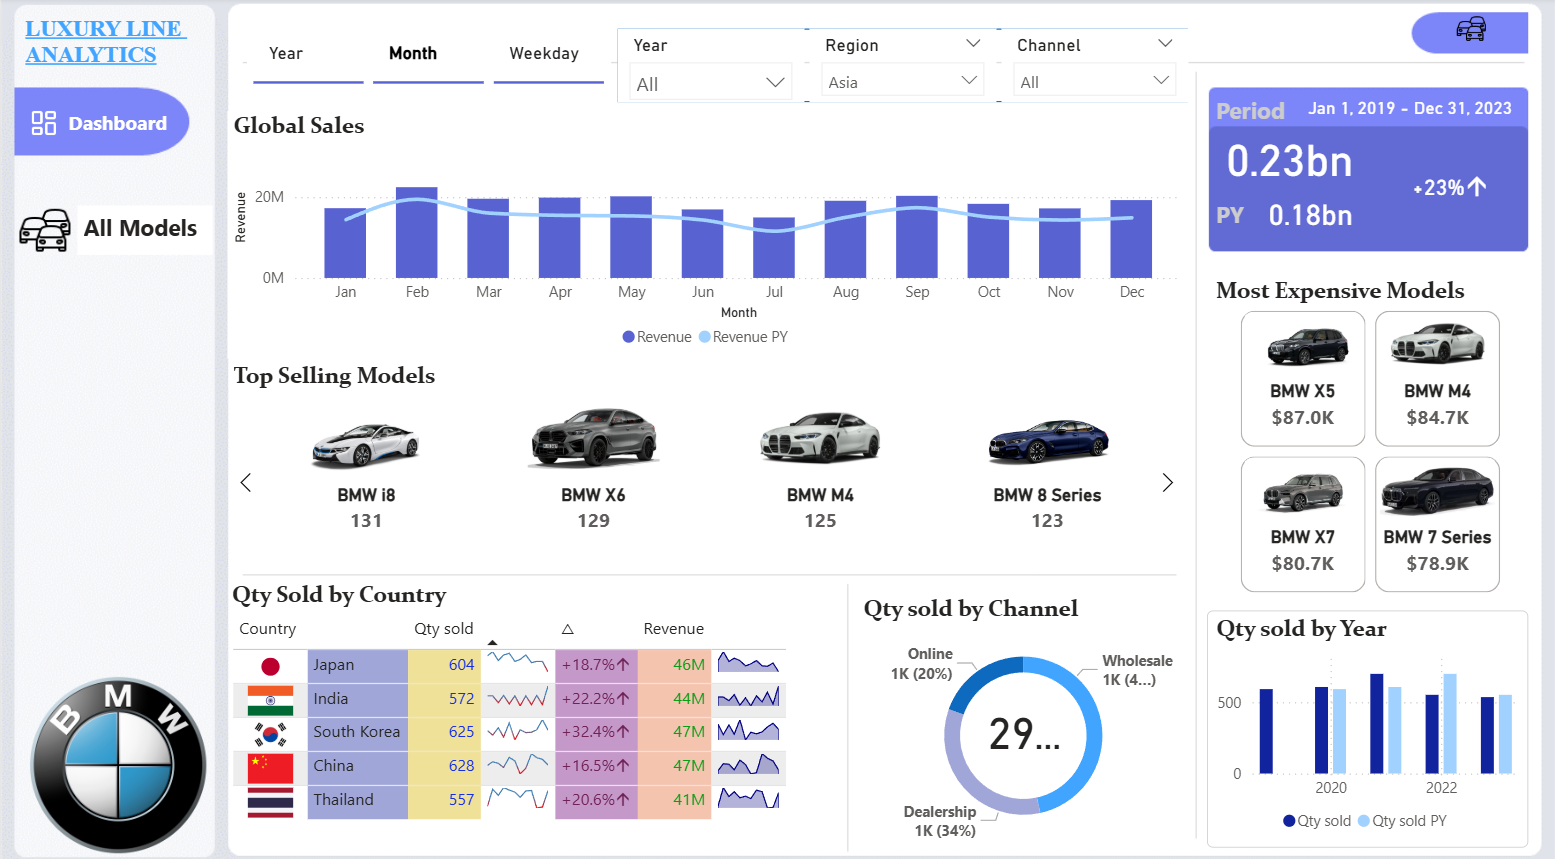

What the dashboard file says about the page in this screenshot:
{"tool":"powerbi","page":{"name":"Dashboard","canvas":[1280,720],"ordinal":0},"visuals":[{"type":"lineStackedColumnComboChart","title":"Global Sales","fields":{"Category":["Calendar.Month"],"Y":["All Measures.Revenue"],"Y2":["All Measures.Revenue PY"]},"box":[187,93.5,791,204.2],"z":0},{"type":"advancedSlicerVisual","fields":{"Values":["PeriodSlicer.PeriodSlicer"]},"box":[202.5,16.2,299.7,60.8],"z":1000},{"type":"card","fields":{"Values":["All Measures.Revenue"]},"box":[995.5,107.1,130.7,47.3],"z":2000},{"type":"card","fields":{"Values":["All Measures.Revenue PY"]},"box":[1012.8,154.4,130.7,47.3],"z":3000},{"type":"textbox","box":[995.5,160.7,45.7,41],"z":4000},{"type":"card","fields":{"Values":["All Measures.Revenue Variance % Arrow"]},"box":[1143.5,133.9,96.1,47.3],"z":5000},{"type":"card","fields":{"Values":["All Measures.Selected Period"]},"box":[1061.6,77.2,198.5,31.5],"z":6000},{"type":"textbox","box":[995.5,75.6,83.5,41],"z":7000},{"type":"advancedSlicerVisual","title":"Top Selling Models","fields":{"Values":["dimModel.Model"]},"box":[187,300.6,791,175.4],"z":8000},{"type":"advancedSlicerVisual","title":"Most Expensive Models","fields":{"Values":["dimModel.Model"]},"box":[995.5,230,264.6,266.2],"z":9000},{"type":"clusteredColumnChart","title":"Qty sold  by Year","fields":{"Y":["All Measures.Qty sold","All Measures.Qty sold PY"],"Category":["Calendar.Year"]},"box":[993.9,505.6,264.6,195.3],"z":10000},{"type":"donutChart","fields":{"Y":["All Measures.Qty sold"],"Category":["dimChannel.Channel"]},"box":[705.6,491.4,272.5,209.5],"z":11000},{"type":"card","fields":{"Values":["All Measures.Qty sold"]},"box":[800.1,574.9,83.5,56.7],"z":12000},{"type":"tableEx","title":"Qty Sold by Country","fields":{"Values":["dimCountry.Flag","dimCountry.Country","All Measures.Qty sold","All Measures.Qty Sold Sparkline","All Measures.Qty sold Variance % Arrow","All Measures.Revenue","All Measures.Revenue Sparkline"]},"box":[185.9,480.4,519.8,220.5],"z":13000},{"type":"textbox","box":[50.6,87.1,117.5,38.5],"z":14000},{"type":"image","box":[0,87.1,70.9,34.4],"z":15000},{"type":"image","box":[10.1,153.9,52.7,74.9],"z":16000},{"type":"textbox","box":[62.8,172.2,111.4,40.5],"z":17000},{"type":"actionButton","box":[14.2,160,153.9,64.8],"z":18000},{"type":"image","box":[18.2,546.8,155.9,170.1],"z":19000},{"type":"textbox","box":[14.4,10.1,158.2,56.1],"z":21000},{"type":"shape","box":[508.4,26.3,469.9,60.8],"z":22000},{"type":"slicer","fields":{"Values":["Calendar.Year"]},"box":[508.4,26.3,153.9,60.8],"z":23000},{"type":"slicer","fields":{"Values":["dimCountry.Region"]},"box":[666.3,26.3,153.9,60.8],"z":24000},{"type":"slicer","fields":{"Values":["dimChannel.Channel"]},"box":[824.3,26.3,153.9,60.8],"z":25000},{"type":"image","box":[1182.8,8.1,56.7,34.4],"z":26000}]}

Visuals, with their boxes in screenshot pixels (x1, y1, x2, y2), scaled from the page's 1280x720 canvas onto the 1555x859 screenshot:
"Global Sales" lineStackedColumnComboChart: box(227, 112, 1188, 355)
advancedSlicerVisual - PeriodSlicer.PeriodSlicer: box(246, 19, 610, 92)
card - All Measures.Revenue: box(1209, 128, 1368, 184)
card - All Measures.Revenue PY: box(1230, 184, 1389, 241)
textbox: box(1209, 192, 1265, 241)
card - All Measures.Revenue Variance % Arrow: box(1389, 160, 1506, 216)
card - All Measures.Selected Period: box(1290, 92, 1531, 130)
textbox: box(1209, 90, 1311, 139)
"Top Selling Models" advancedSlicerVisual: box(227, 359, 1188, 568)
"Most Expensive Models" advancedSlicerVisual: box(1209, 274, 1531, 592)
"Qty sold  by Year" clusteredColumnChart: box(1207, 603, 1529, 836)
donutChart - All Measures.Qty sold x dimChannel.Channel: box(857, 586, 1188, 836)
card - All Measures.Qty sold: box(972, 686, 1073, 754)
"Qty Sold by Country" tableEx: box(226, 573, 857, 836)
textbox: box(61, 104, 204, 150)
image: box(0, 104, 86, 145)
image: box(12, 184, 76, 273)
textbox: box(76, 205, 212, 254)
actionButton: box(17, 191, 204, 268)
image: box(22, 652, 212, 855)
textbox: box(17, 12, 210, 79)
shape: box(618, 31, 1188, 104)
slicer - Calendar.Year: box(618, 31, 805, 104)
slicer - dimCountry.Region: box(809, 31, 996, 104)
slicer - dimChannel.Channel: box(1001, 31, 1188, 104)
image: box(1437, 10, 1506, 51)
